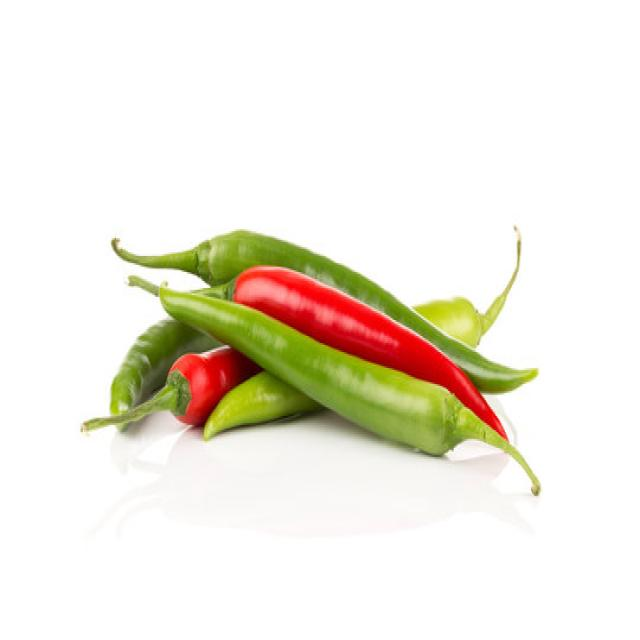Chilli: (110, 224, 523, 356), (410, 222, 522, 348), (108, 315, 223, 423), (202, 368, 324, 441)
